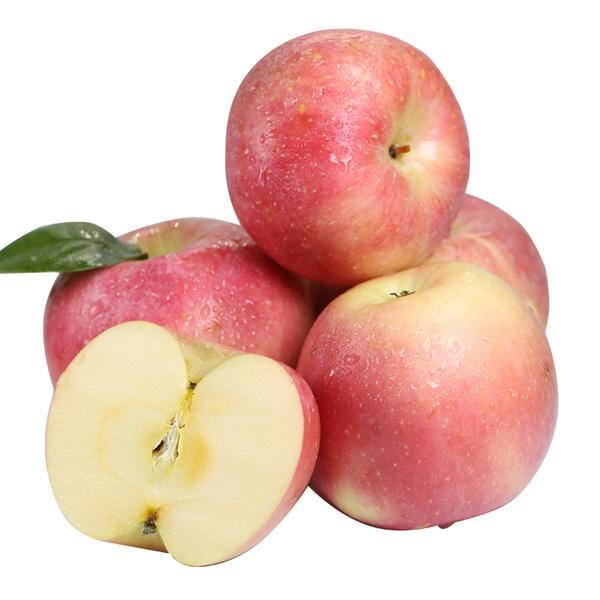apple: (292, 257, 560, 539), (227, 29, 477, 288), (40, 211, 317, 388)
